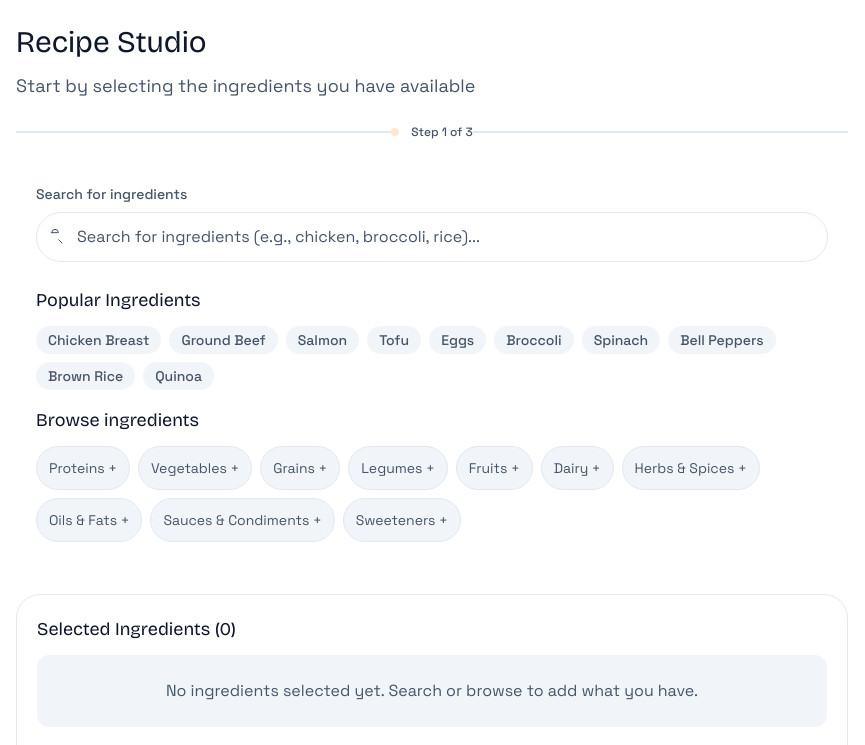
Studio alias selection adds canonical display name without changing the flow
In the search field with placeholder "Search for ingredients (e.g., chicken, broccoli, rice)...": (432, 237) [36,212,828,262], type "rajma"
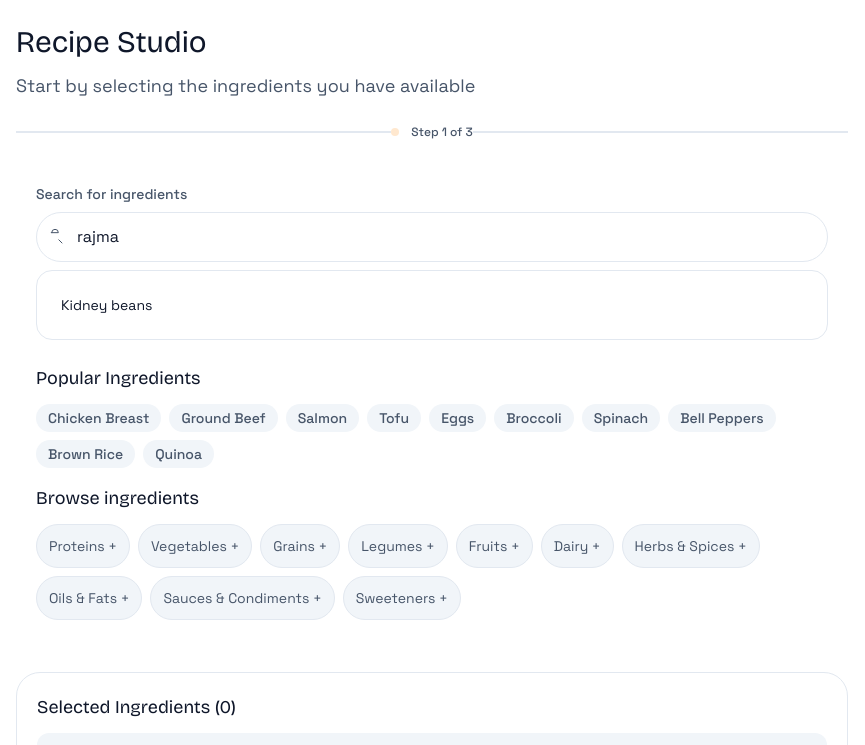
Click the button "Kidney beans": (107, 305) [49,283,428,327]
(page scrolled)
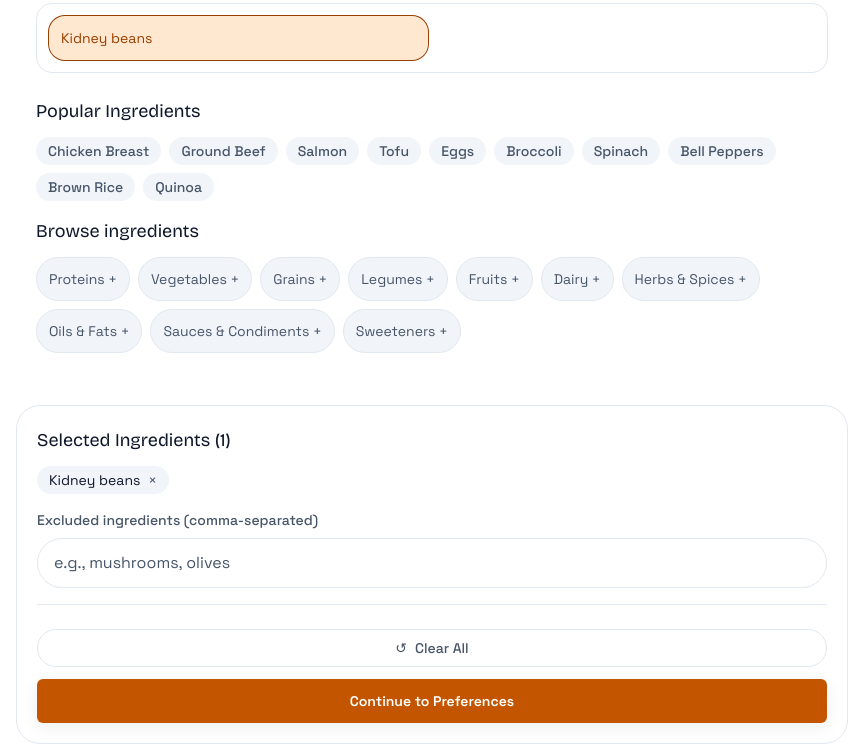
expect the button named "Remove Kidney beans" is shown: met, box [148,470,157,490]
expect the button "Continue to Preferences" is enabled: met, box [37,679,827,723]
